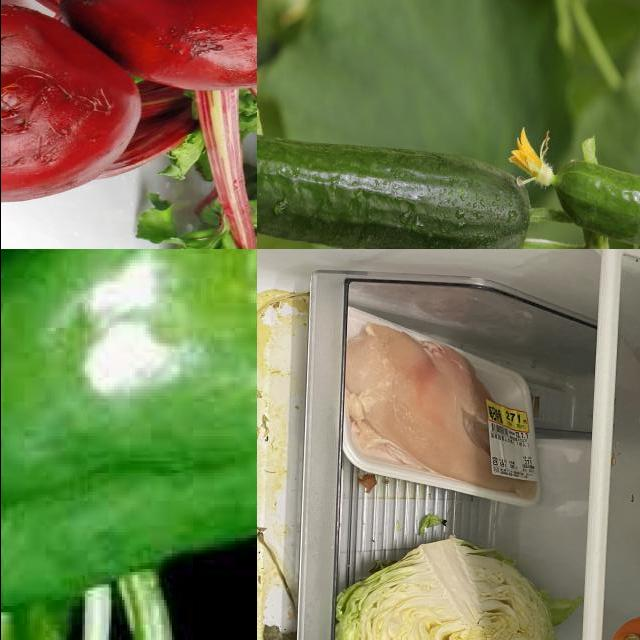beet: (1, 4, 144, 209), (78, 1, 257, 90)
bell_pepper: (1, 250, 257, 629)
cabbage: (330, 536, 570, 640)
cucumber: (257, 112, 538, 250), (559, 161, 640, 250)
